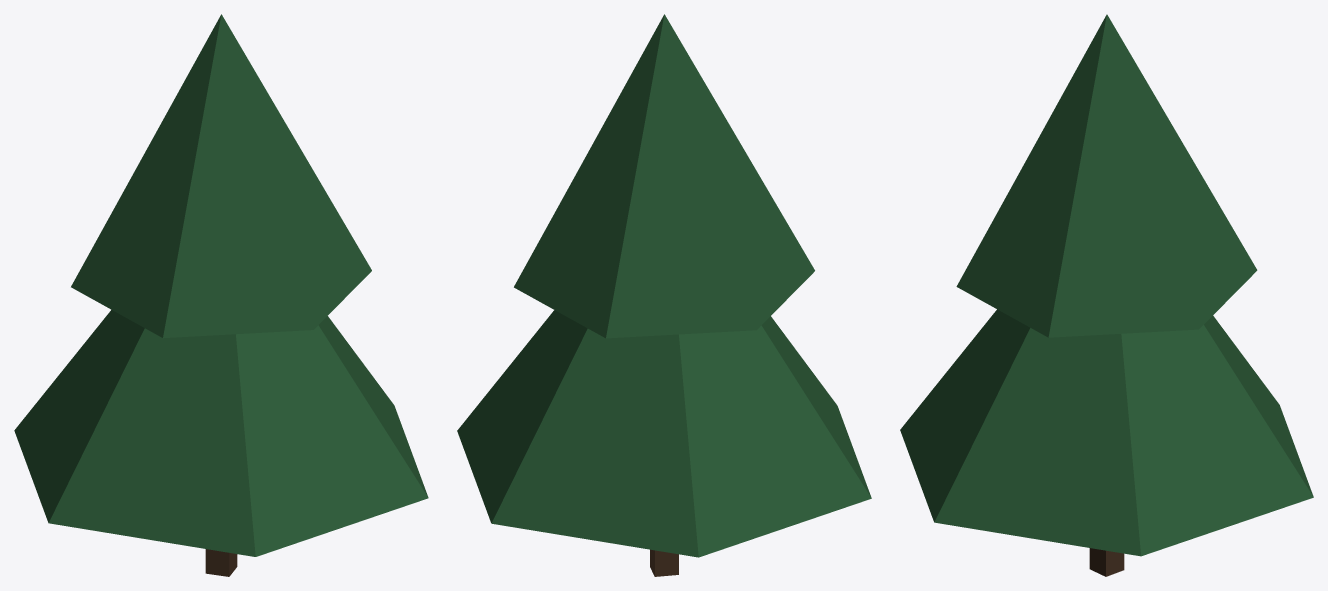
Rendered from pousse_conifere.glb.
The picture shows the model from 3 angles, left to right: view 1: azimuth 30°, elevation 25°; view 2: azimuth 150°, elevation 25°; view 3: azimuth 270°, elevation 25°; orthographic projection.
Visible parts, largest first — view 1: pousse_conifere; view 2: pousse_conifere; view 3: pousse_conifere.
Part boxes in pixels (left/top/right/bottom): pousse_conifere: left=14, top=14, right=428, bottom=576; pousse_conifere: left=457, top=14, right=871, bottom=576; pousse_conifere: left=900, top=14, right=1313, bottom=576.
Size of the model in its own units: 0.7509 by 1.05 by 0.7089.
1 material, 1 textured.
